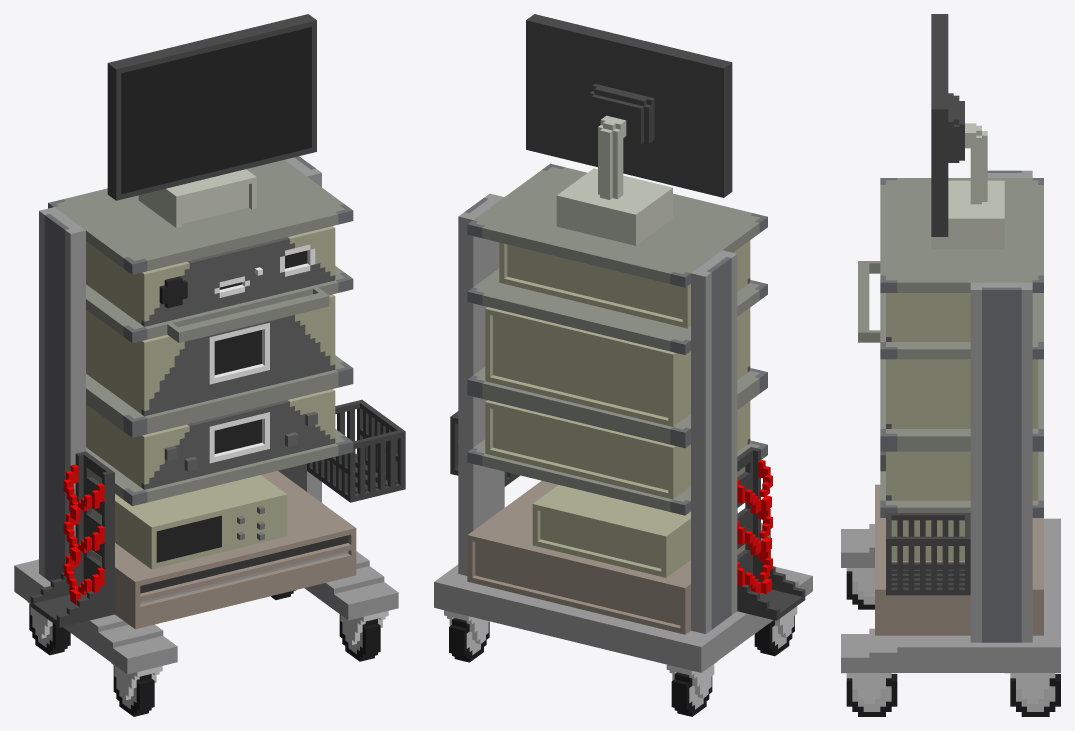
The model's file is Operating room Equip6.fbx.
3 renders of one model, left to right at view 1: azimuth 30°, elevation 25°; view 2: azimuth 150°, elevation 25°; view 3: azimuth 270°, elevation 25°, orthographic. The views are drawn at different scales.
Parts seen in each view (by area): view 1: Operating room Equip6.001, Operating room Equip6; view 2: Operating room Equip6.001, Operating room Equip6; view 3: Operating room Equip6.001, Operating room Equip6.
Boxes of the visible parts, x1,y1,x2,y2 form: Operating room Equip6.001: (14,156,405,716); Operating room Equip6: (107,14,316,200); Operating room Equip6.001: (434,115,812,716); Operating room Equip6: (526,14,732,197); Operating room Equip6.001: (841,123,1060,716); Operating room Equip6: (931,14,964,236).
Bounding box in the file's own units: 660 × 1170 × 390.
